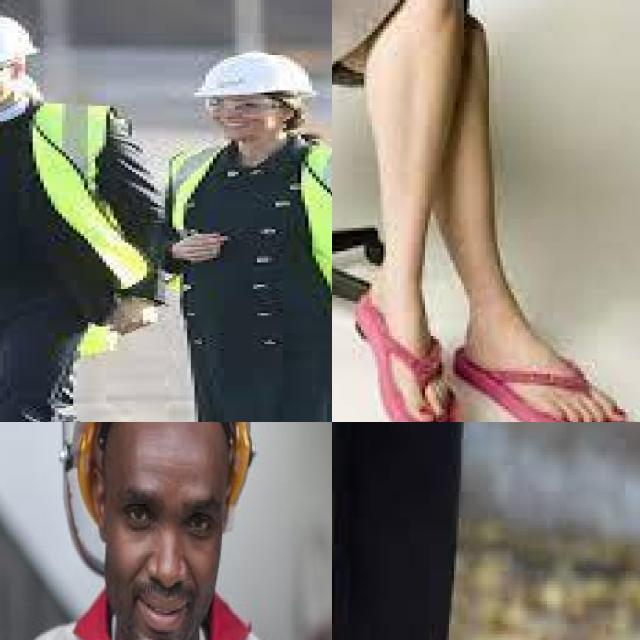No_Ear-Protection: (91, 473, 110, 542)
No_Glasses: (106, 479, 225, 555)
Sandals: (452, 304, 633, 422)
face_nomask: (106, 529, 217, 640), (209, 94, 290, 146)
glasses: (194, 94, 283, 118)
hand_noglove: (110, 291, 165, 335), (172, 227, 232, 265)
head_helmet: (193, 50, 314, 94), (0, 13, 40, 70)
person: (165, 50, 332, 422), (0, 13, 135, 422)
vest: (165, 141, 332, 315), (0, 105, 146, 284)
